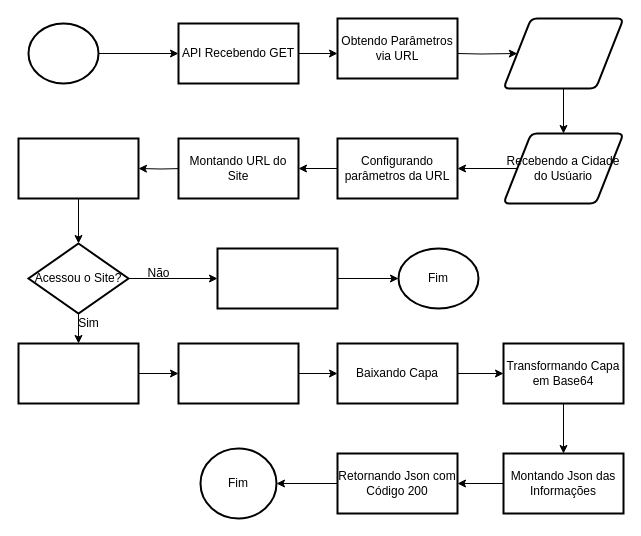
This 641x536 diagram has some shape labels left out. Each missing label, with the box of its shape:
Acessando URL: (17, 137, 139, 199)
Inicio: (27, 22, 99, 84)
Nome, data: (177, 342, 299, 404)
Obter informações dos filme em cartaz e que entrarão em cartaz: (17, 342, 139, 404)
Recebendo a data desejada do usuario: (502, 17, 624, 89)
Retorna Json de Erro com Código 500: (216, 247, 338, 309)
